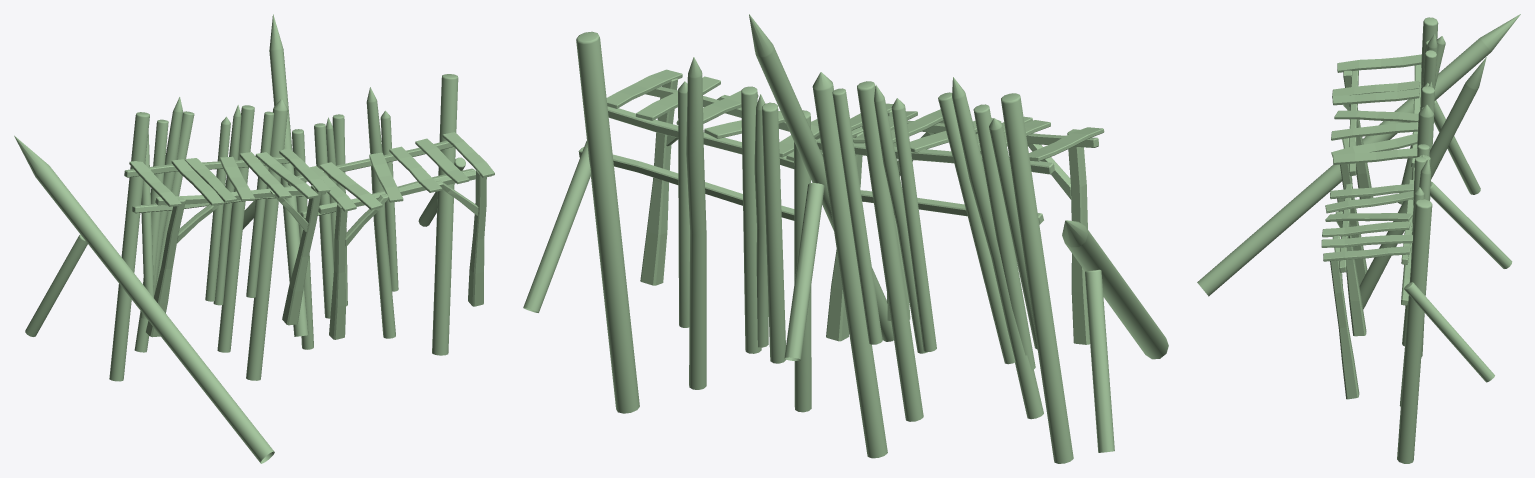
File: Spiked_wall_01.FBX
3 views of the same model, side by side, from view 1: azimuth 30°, elevation 25°; view 2: azimuth 150°, elevation 25°; view 3: azimuth 270°, elevation 25° (orthographic). The views are drawn at different scales.
Visible parts, largest first — view 1: Spiked_wall_01; view 2: Spiked_wall_01; view 3: Spiked_wall_01.
Boxes of the visible parts, x1,y1,x2,y2 form: Spiked_wall_01: (14,14,494,463); Spiked_wall_01: (523,14,1168,463); Spiked_wall_01: (1197,14,1520,463).
Bounding box in the file's own units: 768 × 606 × 520.
